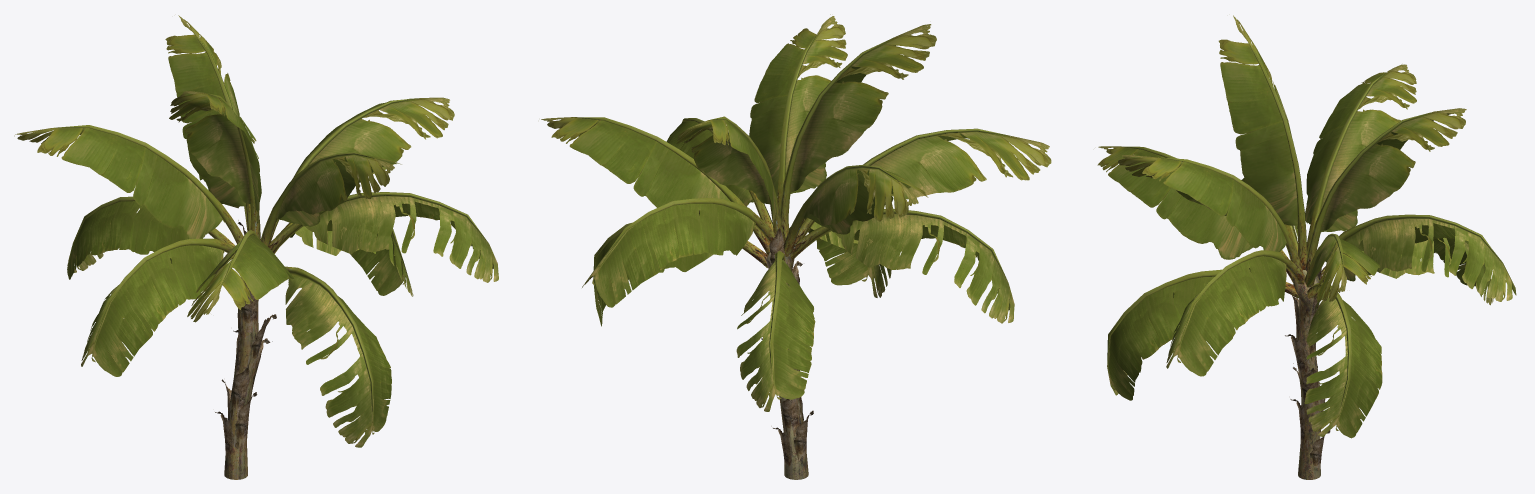
3 views of the same model, side by side, from view 1: azimuth 30°, elevation 25°; view 2: azimuth 150°, elevation 25°; view 3: azimuth 270°, elevation 25° (orthographic). The views are drawn at different scales.
Visible parts, largest first — view 1: Tree_1, Tree_2, Tree_4, Tree_3, Tree_0; view 2: Tree_1, Tree_2, Tree_4, Tree_3, Tree_0; view 3: Tree_1, Tree_2, Tree_4, Tree_3, Tree_0.
Part boxes in pixels (x1,y1,x2,y2): Tree_1: (14,15,454,322); Tree_2: (67,117,498,447); Tree_4: (54,33,488,414); Tree_3: (215,220,276,458); Tree_0: (224,277,258,479); Tree_1: (541,14,1051,234); Tree_2: (582,121,1014,411); Tree_4: (572,33,1011,376); Tree_3: (755,227,813,468); Tree_0: (767,252,808,479); Tree_1: (1097,15,1466,301); Tree_2: (1107,177,1516,438); Tree_4: (1107,42,1501,407); Tree_3: (1285,247,1330,470); Tree_0: (1293,270,1320,479).
Size of the model in its own units: 2.89 by 2.89 by 2.74.
Materials: 5 (5 with a texture image).
